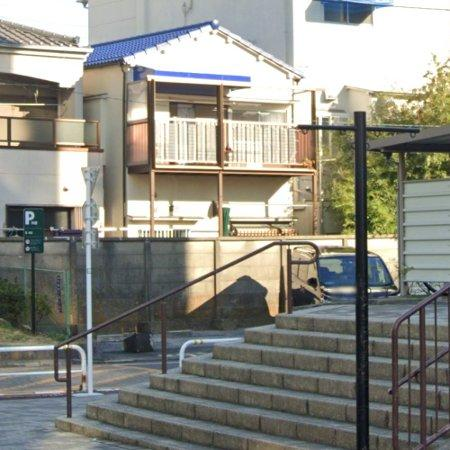stairs: (57, 306, 357, 450), (370, 288, 450, 450)
